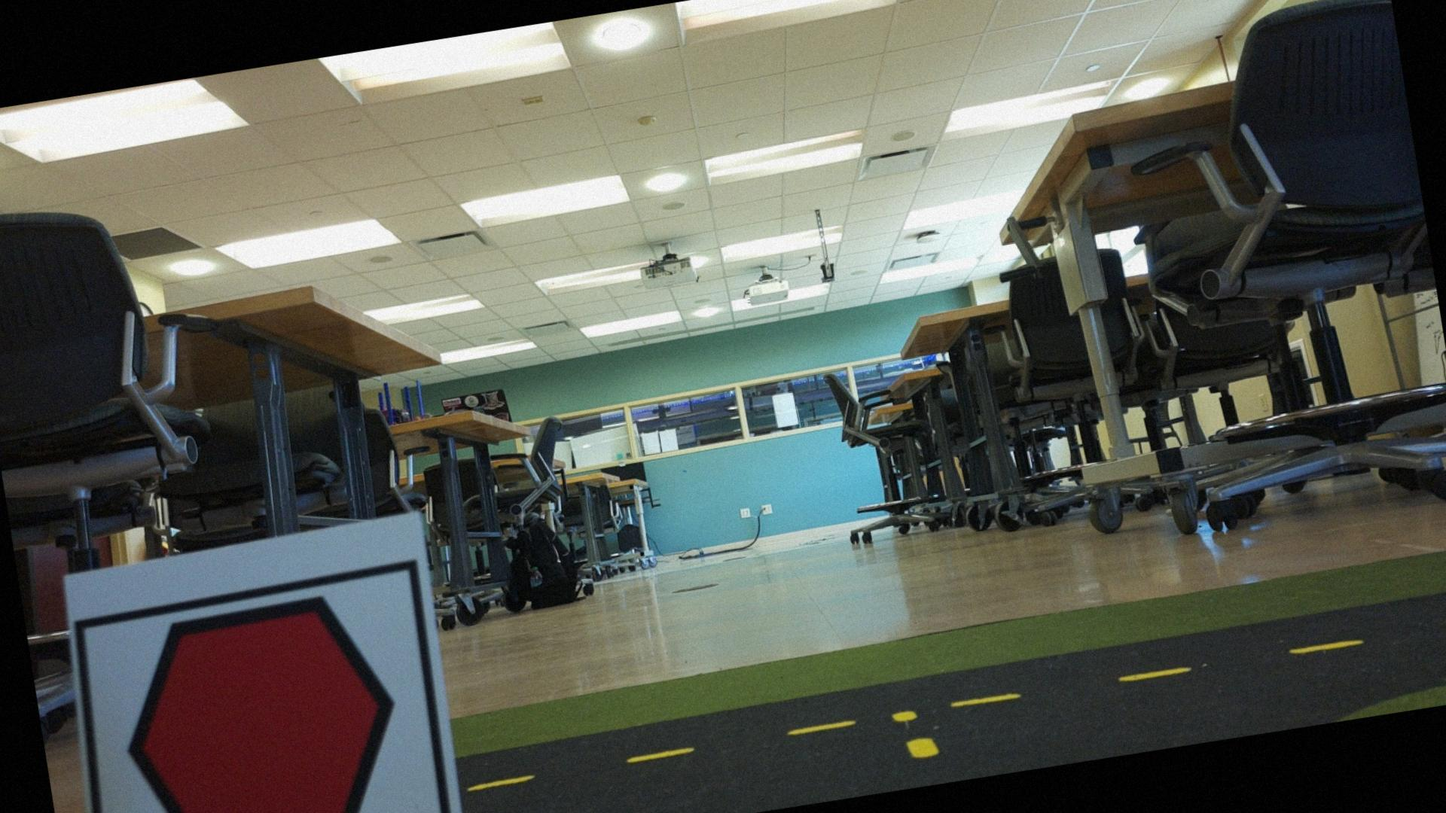stop: (89, 577, 432, 812)
yellowline: (471, 620, 1445, 793), (890, 702, 942, 765)
